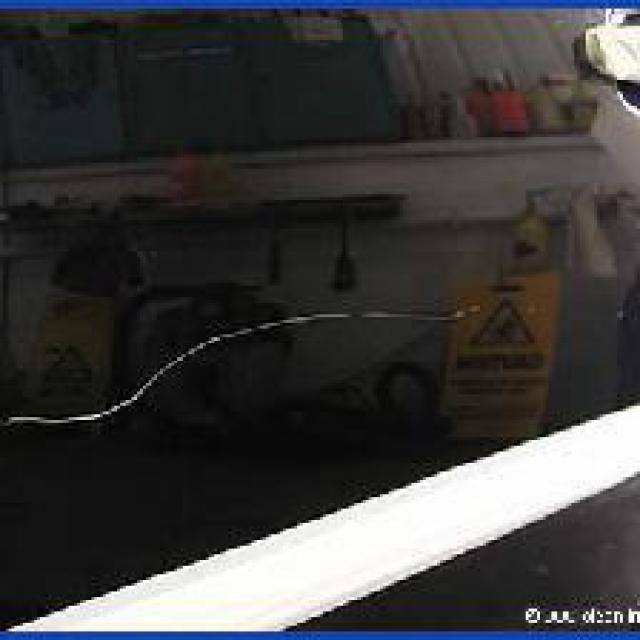damaged: (3, 299, 480, 432)
